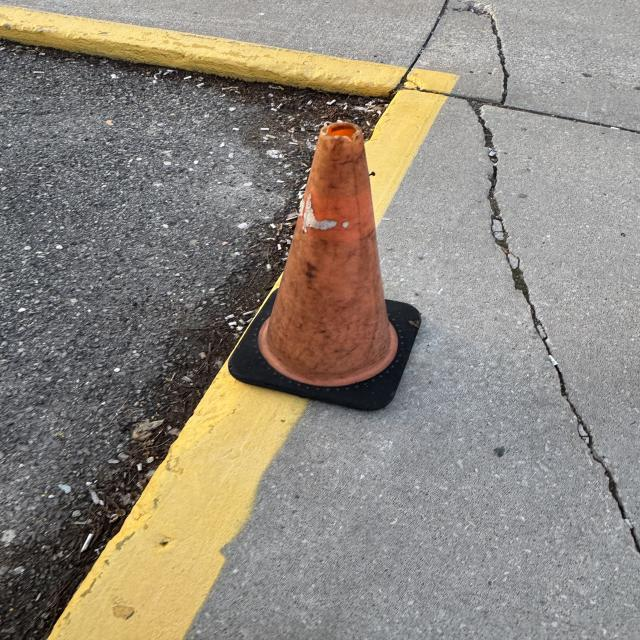Traffic Cone: (228, 118, 428, 412)
